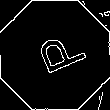P_SW: (25, 28, 85, 82)
